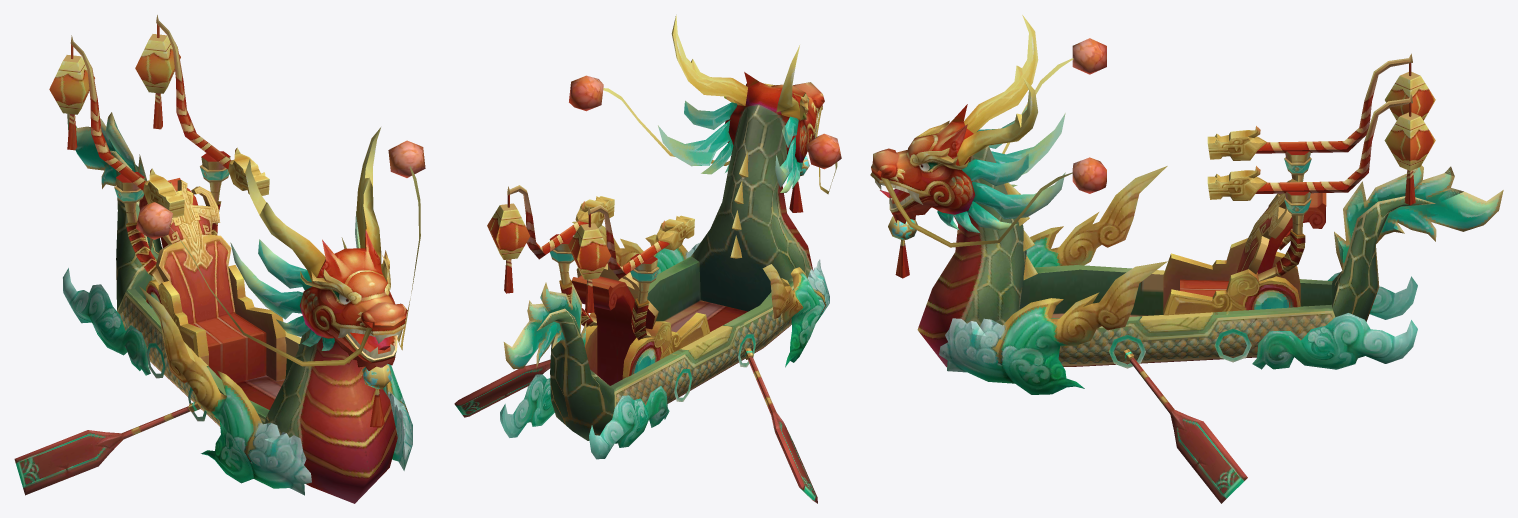
3 renders of one model, left to right at view 1: azimuth 30°, elevation 25°; view 2: azimuth 150°, elevation 25°; view 3: azimuth 270°, elevation 25°, orthographic. The views are drawn at different scales.
Parts seen in each view (by area): view 1: mount_48_0, 对象003; view 2: mount_48_0, 对象002, 对象003; view 3: mount_48_0, 对象002.
Boxes of the visible parts, bbox=[...] form: mount_48_0: bbox=[49, 15, 425, 503]; 对象003: bbox=[14, 401, 200, 495]; mount_48_0: bbox=[487, 15, 841, 459]; 对象002: bbox=[454, 359, 550, 417]; 对象003: bbox=[743, 348, 817, 503]; mount_48_0: bbox=[870, 15, 1503, 394]; 对象002: bbox=[1123, 349, 1247, 503].
Bounding box in the file's own units: 542 × 528 × 819.
